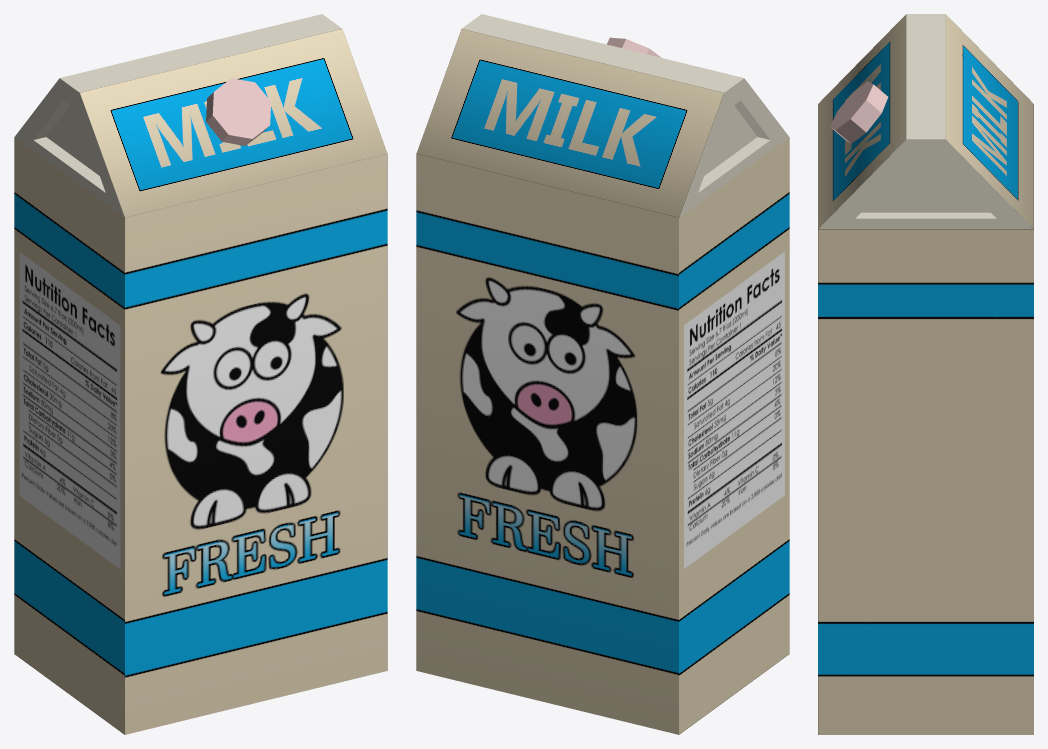
The model's file is Milk.fbx.
3 renders of one model, left to right at view 1: azimuth 30°, elevation 25°; view 2: azimuth 150°, elevation 25°; view 3: azimuth 270°, elevation 25°, orthographic. The views are drawn at different scales.
Visible parts, largest first — view 1: MILK; view 2: MILK; view 3: MILK.
Part boxes in pixels (x1,y1,x2,y2): MILK: [14, 14, 387, 734]; MILK: [416, 14, 789, 734]; MILK: [818, 14, 1033, 734].
Bounding box in the file's own units: 11.13 × 24.67 × 8.1.
Materials: 3 (1 with a texture image).
